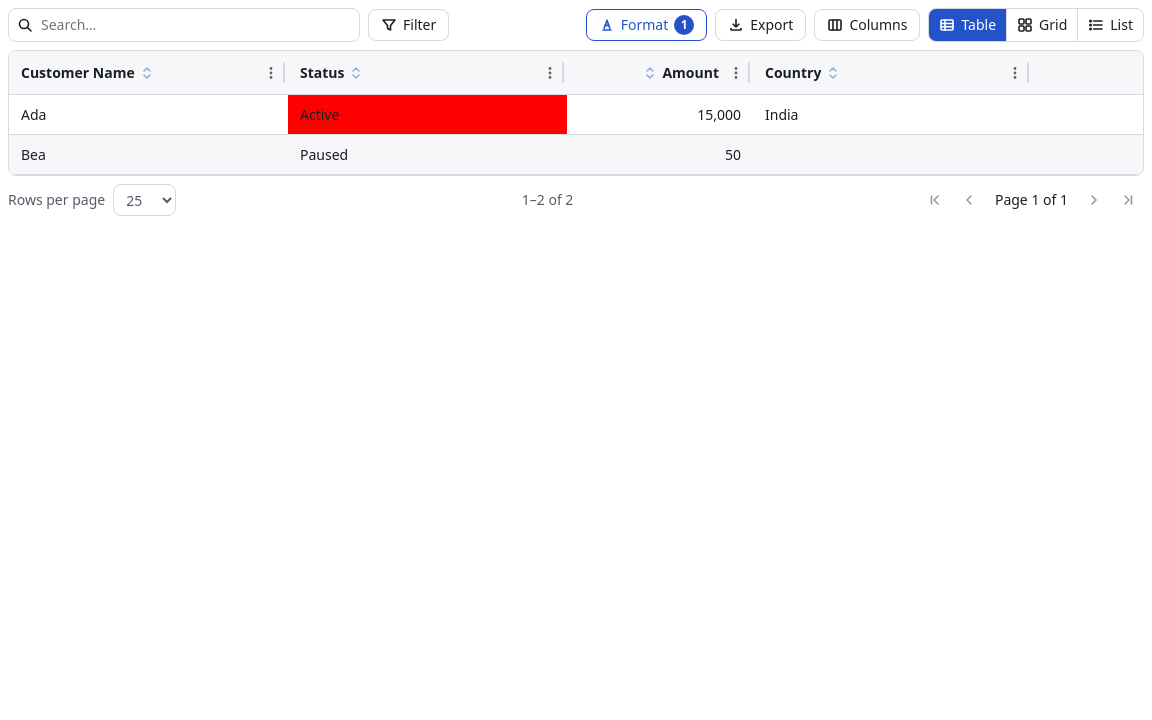
Scenario: conditional formatting › discards a draft on cancel and keeps existing rules
Click the button "Format 1": (647, 25) 586,9 -> 707,41
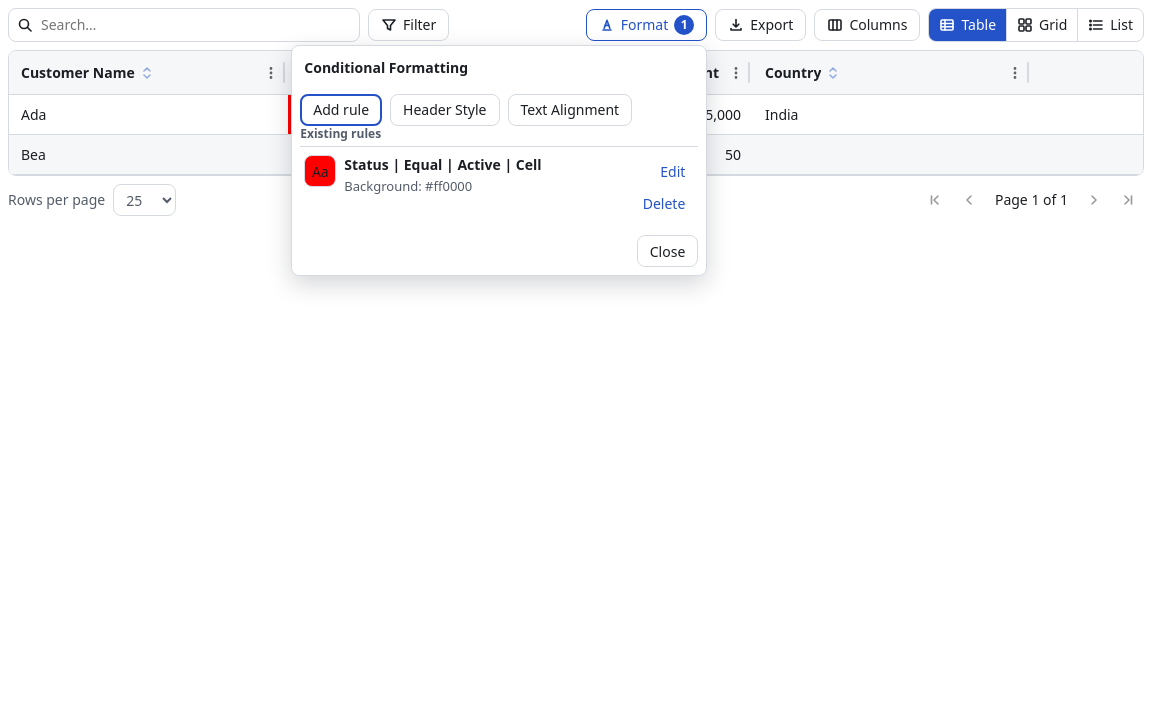
Click the button "Add rule": (341, 110) 300,94 -> 382,126
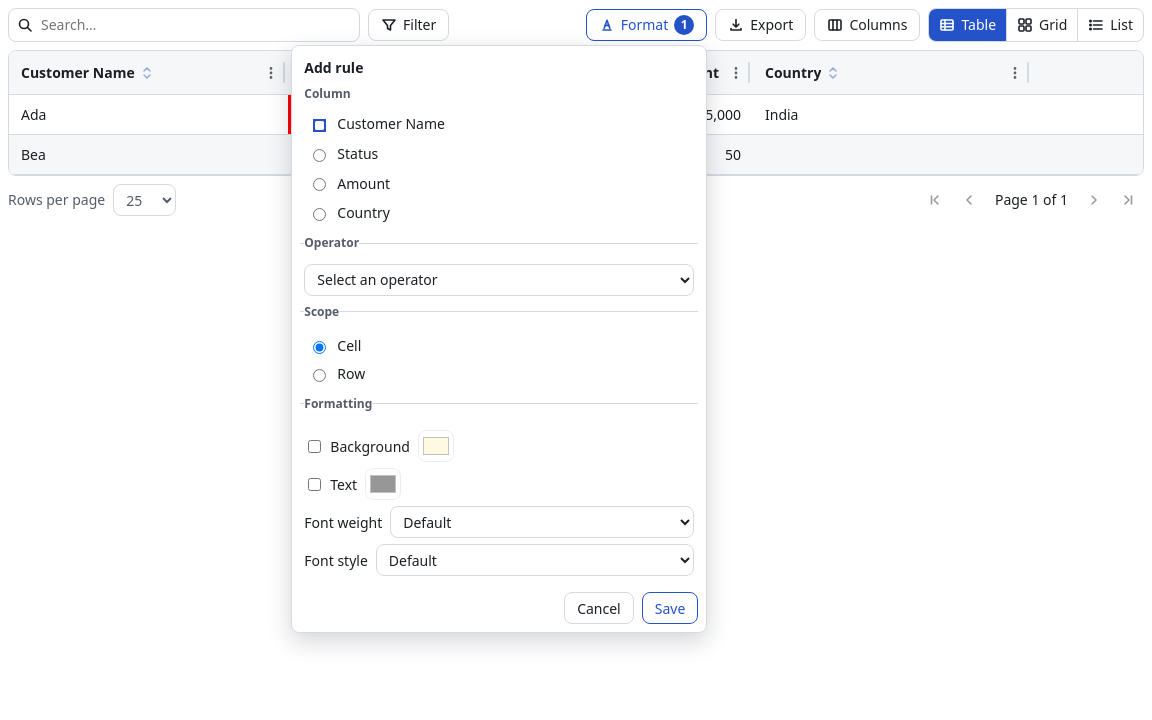
Expected: the text "Conditional Formatting" is gone
Click the radio button labelled "Country": (320, 214) 313,208 -> 326,221
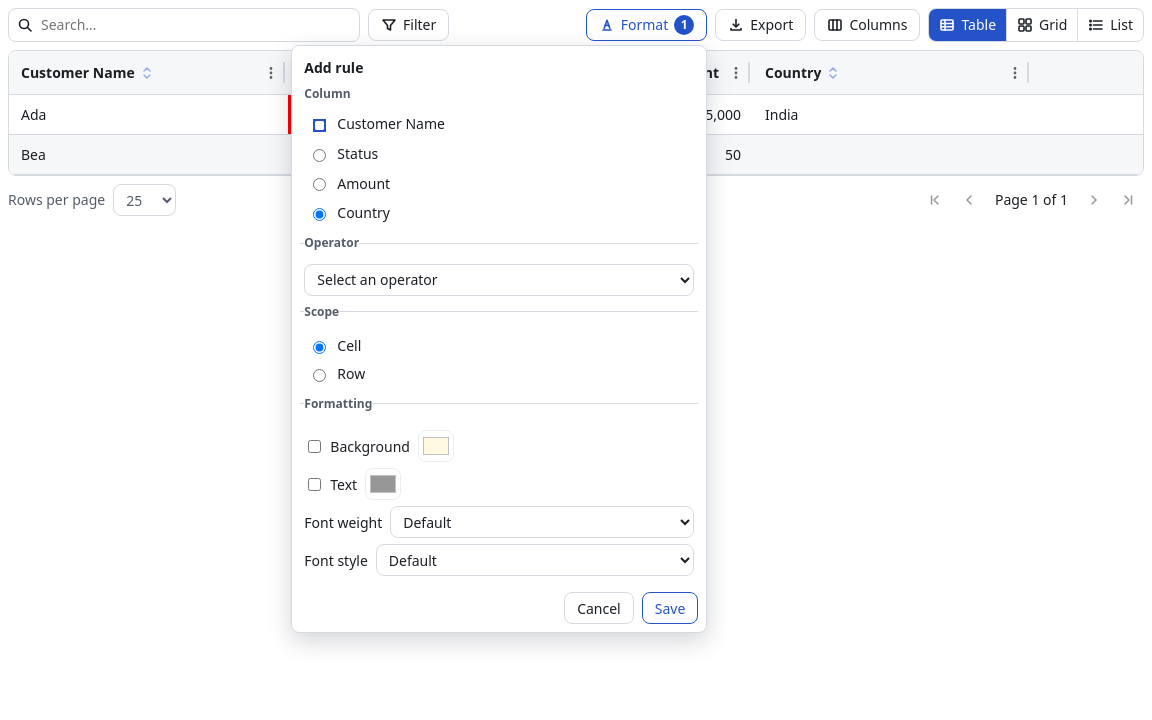
Click the button "Cancel": (599, 608) 564,592 -> 634,624
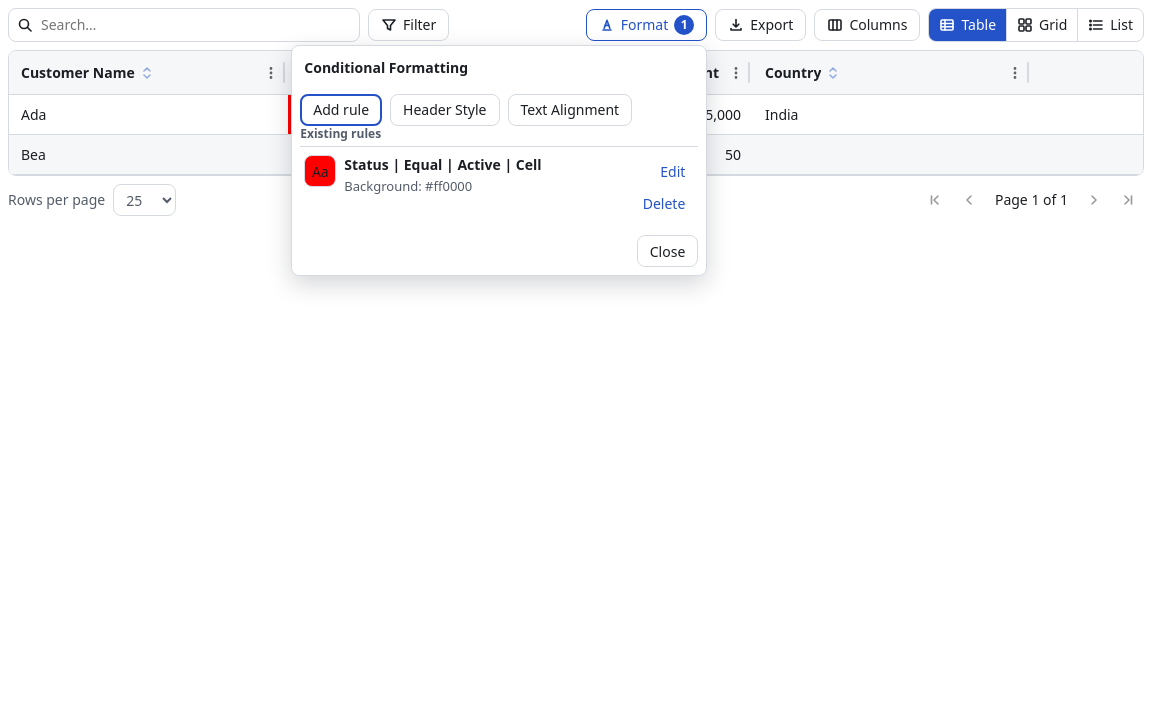
Expected: the text "Status | Equal | Active | Cell" is shown, 344,155 -> 542,174
